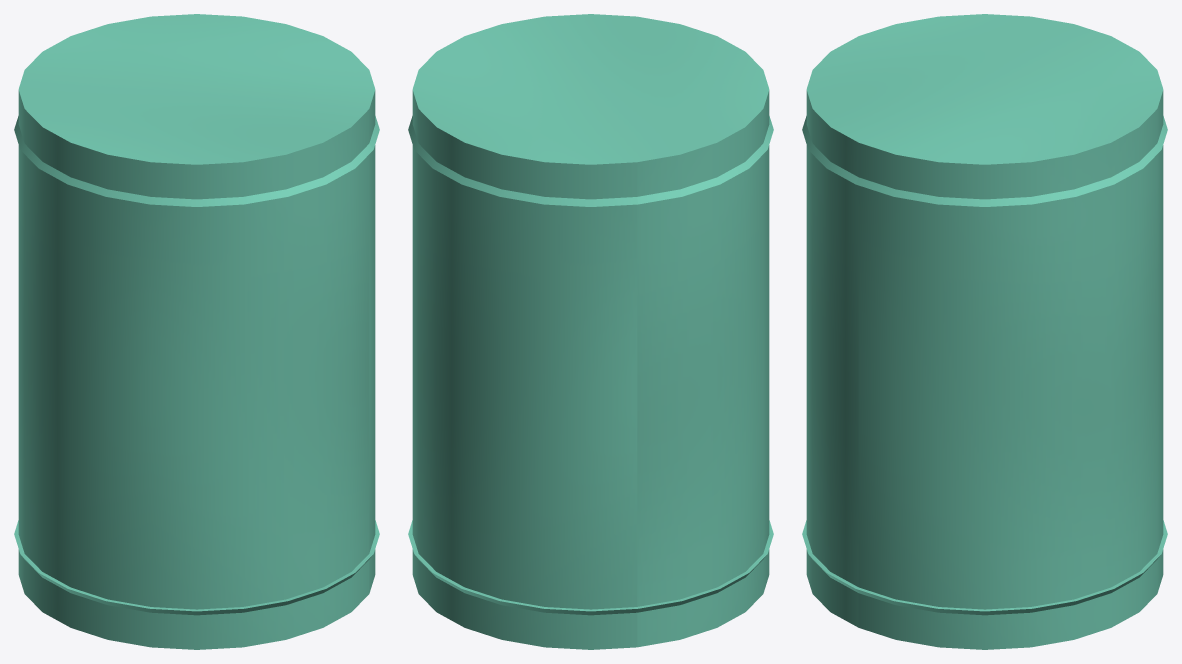
Rendered from 积木圆柱.glb.
The picture shows the model from 3 angles, left to right: view 1: azimuth 30°, elevation 25°; view 2: azimuth 150°, elevation 25°; view 3: azimuth 270°, elevation 25°; orthographic projection.
Visible parts, largest first — view 1: BlockCyl; view 2: BlockCyl; view 3: BlockCyl.
Boxes of the visible parts, <box> form: BlockCyl: <box>14,14,379,649</box>; BlockCyl: <box>408,14,773,649</box>; BlockCyl: <box>802,14,1167,649</box>.
Size of what is drawn, in the model's own units: 0.082 by 0.12 by 0.082.
1 material, 1 textured.
